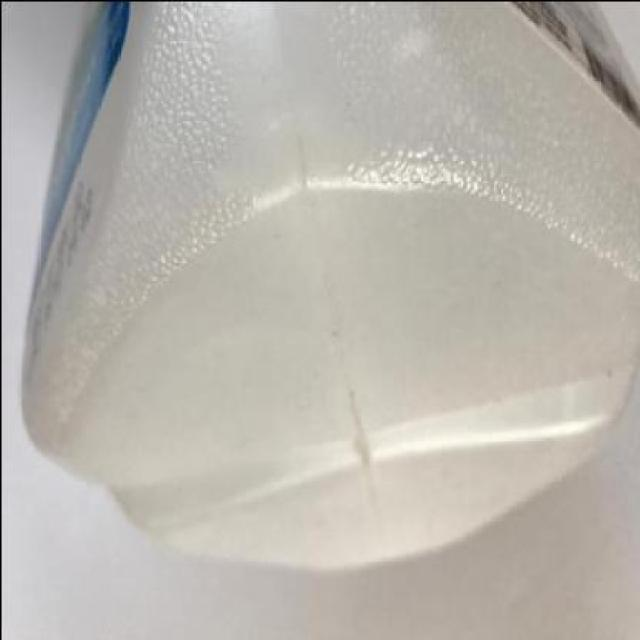PLASTIC: (20, 1, 638, 572)
